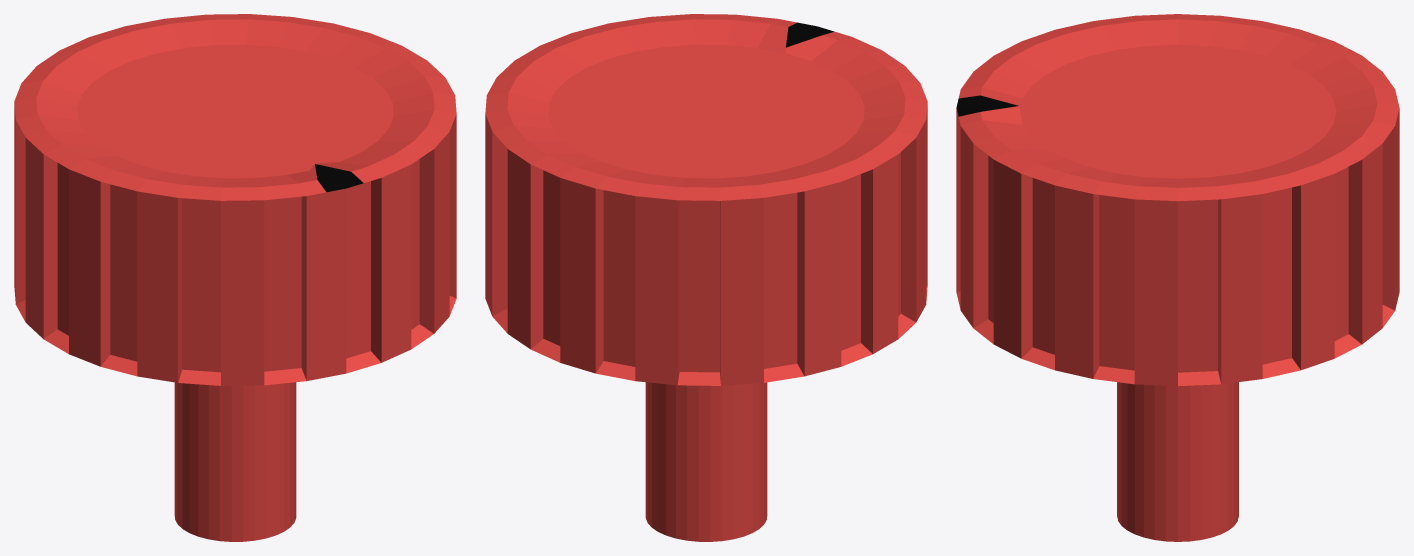
Rendered from Knob.fbx.
3 renders of one model, left to right at view 1: azimuth 30°, elevation 25°; view 2: azimuth 150°, elevation 25°; view 3: azimuth 270°, elevation 25°, orthographic.
Visible parts, largest first — view 1: Cylinder; view 2: Cylinder; view 3: Cylinder.
Boxes of the visible parts, x1=… form: Cylinder: x1=14, y1=14, x2=456, y2=541; Cylinder: x1=485, y1=14, x2=927, y2=541; Cylinder: x1=956, y1=14, x2=1399, y2=541.
Size of the model in its own units: 295 by 303 by 295.
